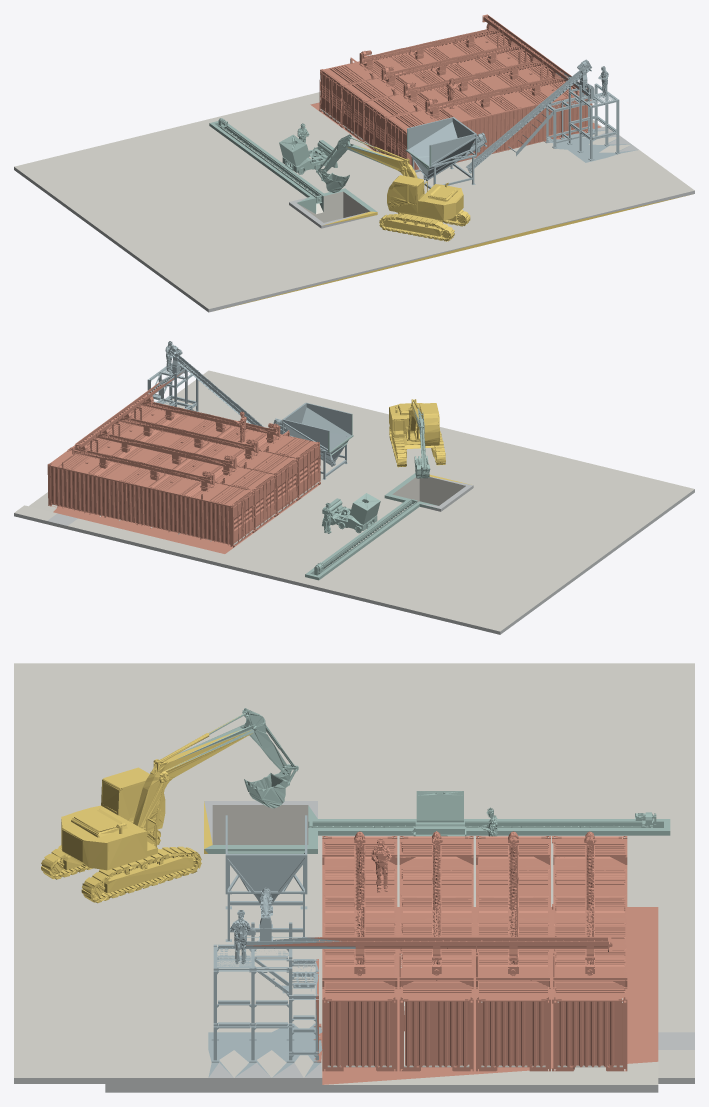
Rendered from grouped_scene.glb.
3 renders of one model, top to bottom at view 1: azimuth 30°, elevation 25°; view 2: azimuth 150°, elevation 25°; view 3: azimuth 270°, elevation 25°, orthographic. The views are drawn at different scales.
Visible parts, largest first — view 1: ground_candidate, service_zone, reactor_zone_4, excavator_candidate, reactor_zone_2, west_equipment_zone, reactor_zone_3, reactor_zone_1, unclassified; view 2: ground_candidate, reactor_zone_1, reactor_zone_2, reactor_zone_3, service_zone, reactor_zone_4, west_equipment_zone, unclassified, excavator_candidate; view 3: ground_candidate, reactor_zone_2, reactor_zone_3, reactor_zone_4, reactor_zone_1, service_zone, excavator_candidate, west_equipment_zone, unclassified.
Boxes of the visible parts, x1=… form: ground_candidate: x1=14, y1=92, x2=694, y2=308; service_zone: x1=406, y1=59, x2=637, y2=188; reactor_zone_4: x1=385, y1=59, x2=592, y2=170; excavator_candidate: x1=223, y1=140, x2=688, y2=308; reactor_zone_2: x1=310, y1=21, x2=531, y2=150; west_equipment_zone: x1=209, y1=118, x2=431, y2=213; reactor_zone_3: x1=363, y1=21, x2=601, y2=172; reactor_zone_1: x1=319, y1=14, x2=516, y2=125; unclassified: x1=14, y1=102, x2=694, y2=312; ground_candidate: x1=14, y1=370, x2=694, y2=631; reactor_zone_1: x1=47, y1=423, x2=254, y2=547; reactor_zone_2: x1=61, y1=413, x2=318, y2=553; reactor_zone_3: x1=53, y1=372, x2=299, y2=515; service_zone: x1=147, y1=341, x2=352, y2=479; reactor_zone_4: x1=128, y1=379, x2=320, y2=498; west_equipment_zone: x1=305, y1=407, x2=439, y2=580; unclassified: x1=14, y1=476, x2=694, y2=634; excavator_candidate: x1=389, y1=399, x2=471, y2=484; ground_candidate: x1=14, y1=663, x2=694, y2=1084; reactor_zone_2: x1=397, y1=831, x2=658, y2=1071; reactor_zone_3: x1=253, y1=831, x2=657, y2=1084; reactor_zone_4: x1=246, y1=831, x2=442, y2=1071; reactor_zone_1: x1=514, y1=831, x2=627, y2=1071; service_zone: x1=208, y1=815, x2=355, y2=1077; excavator_candidate: x1=41, y1=717, x2=252, y2=903; west_equipment_zone: x1=168, y1=708, x2=670, y2=853; unclassified: x1=14, y1=801, x2=694, y2=1092.
Size of the model in its own units: 31.99 by 8.51 by 22.19.
